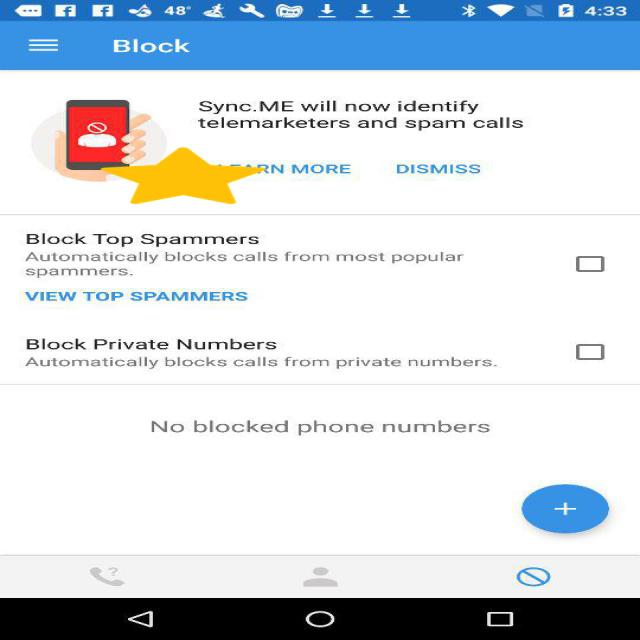forced continuity: (101, 147, 265, 204)
